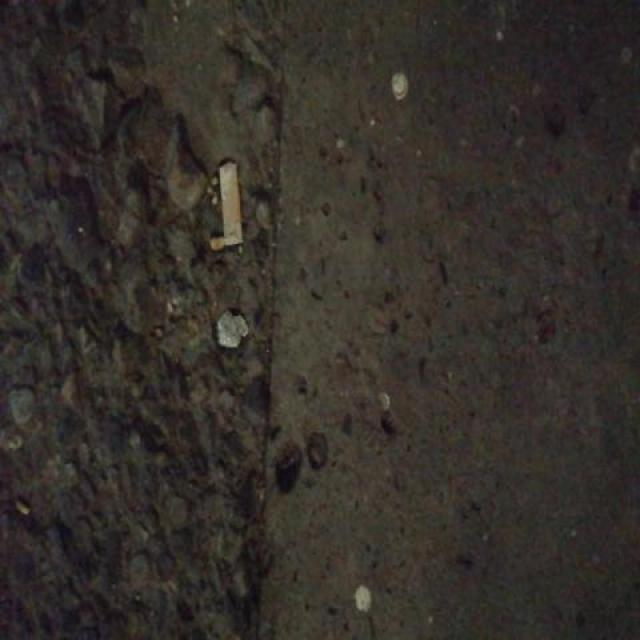non-organic waste: (215, 155, 246, 253)
